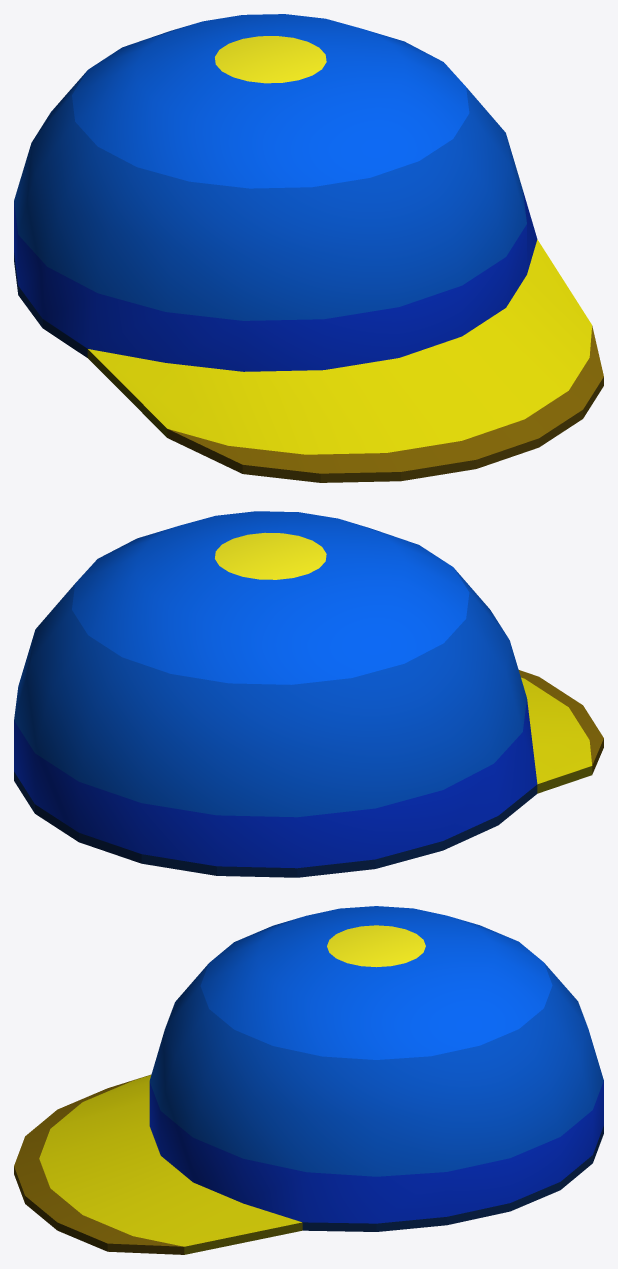
File: LoaderHat.fbx
3 views of the same model, one above another, from view 1: azimuth 30°, elevation 25°; view 2: azimuth 150°, elevation 25°; view 3: azimuth 270°, elevation 25° (orthographic). The views are drawn at different scales.
Parts seen in each view (by area): view 1: LoaderHat; view 2: LoaderHat; view 3: LoaderHat.
Part boxes in pixels (x1,y1,x2,y2): LoaderHat: (14,14,603,482); LoaderHat: (14,511,603,877); LoaderHat: (14,906,603,1254).
Bounding box in the file's own units: 53.05 × 28.8 × 67.5.
